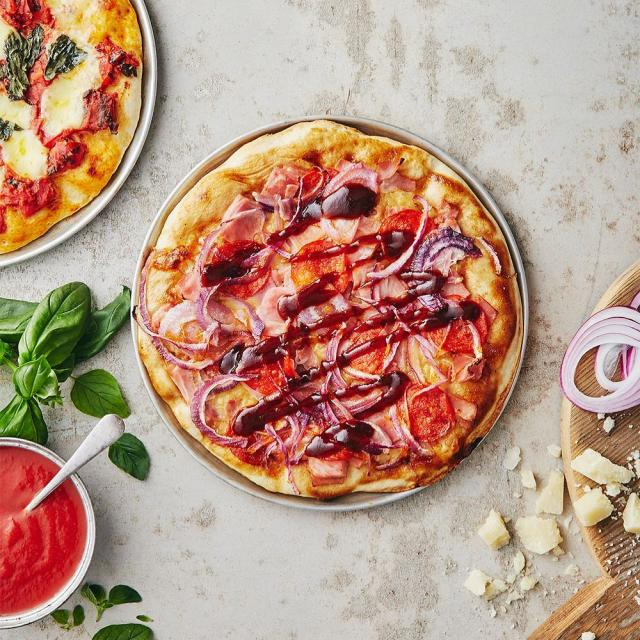pepperoni: (400, 380, 454, 444), (210, 236, 269, 294), (289, 239, 348, 294), (377, 204, 436, 258), (234, 342, 289, 393), (224, 416, 272, 466), (432, 307, 482, 351)
pizza: (132, 118, 527, 507), (0, 0, 151, 260)
